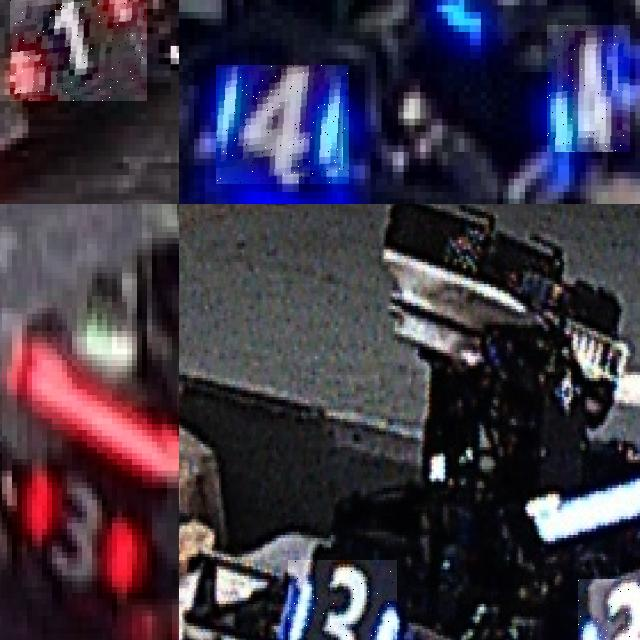B3: (287, 560, 397, 640), (578, 578, 640, 640)
B4: (216, 66, 349, 186), (547, 25, 630, 152)
R1: (10, 0, 146, 101)
R3: (12, 459, 152, 599)
